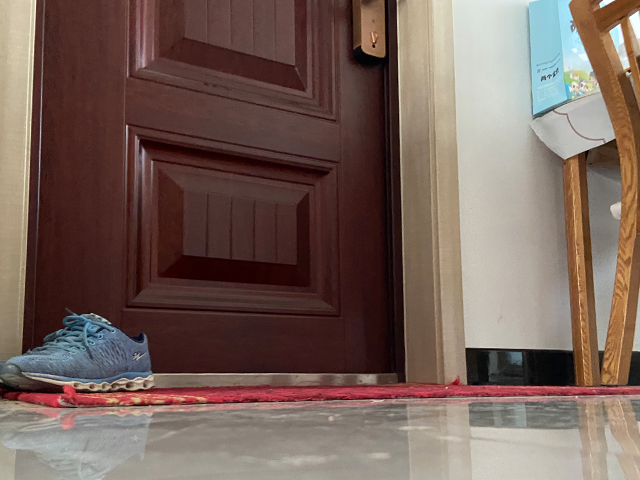carpet: (1, 383, 639, 407)
